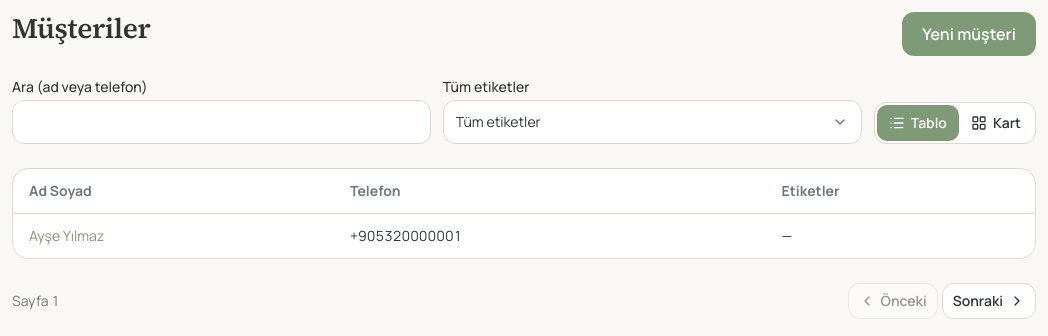
it: müşteri defteri › "Sonraki" sayfayı DEĞİŞTİRİYOR, "Önceki" cursor yığınıyla geri getiriyor
Expected: the link "Ayşe Yılmaz" is shown, [29,226,104,245]
Expected: the button "Önceki" is disabled, [848,283,938,319]
Click the button "Sonraki" at (989, 301), box [942,283,1036,319]
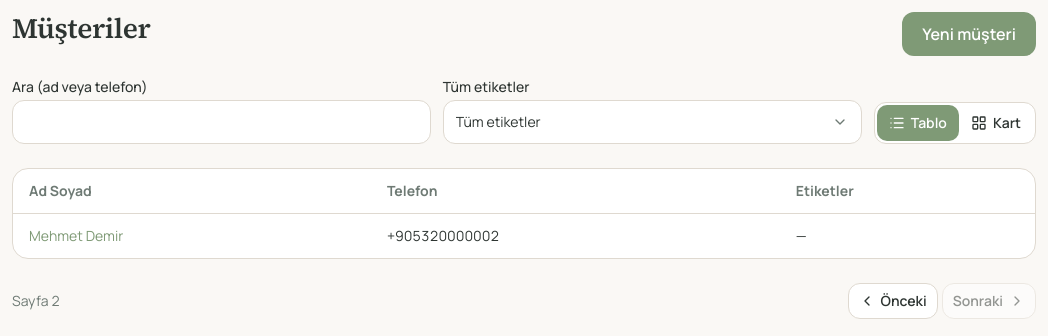
Expected: the link "Mehmet Demir" is shown, [29,226,123,245]
Expected: the link "Ayşe Yılmaz" is gone
Expected: the text "Sayfa 2" is shown, [12,291,60,311]
Click the button "Önceki" at (893, 301), box [848,283,938,319]
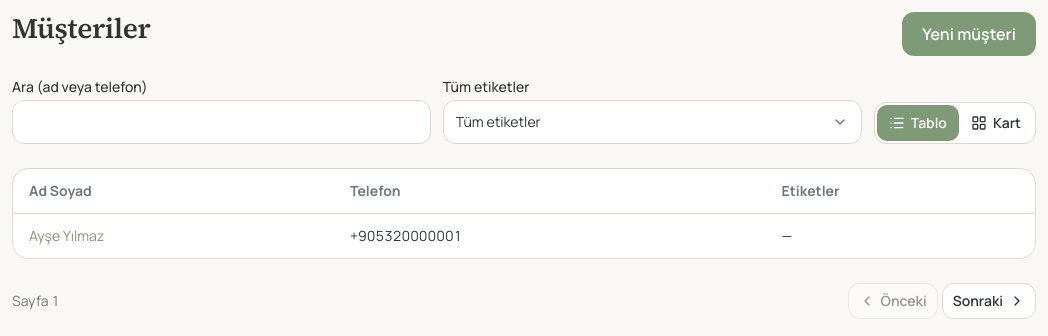
Expected: the link "Ayşe Yılmaz" is shown, [29,226,104,245]
Expected: the link "Mehmet Demir" is gone
